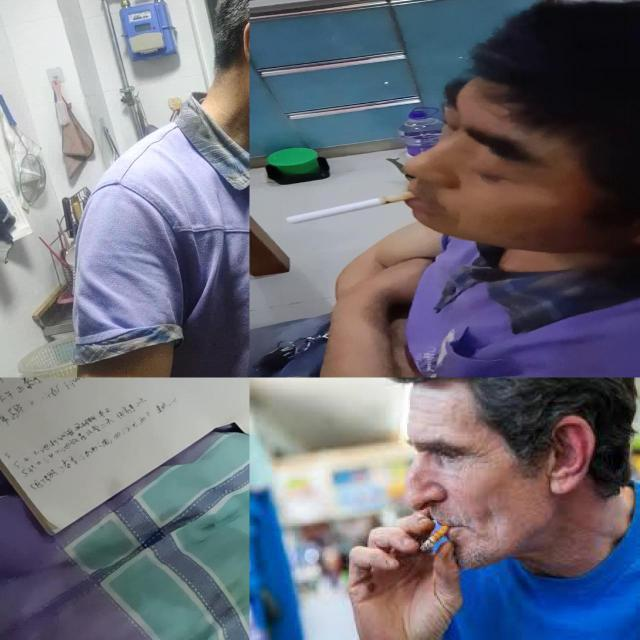cigarette: (286, 192, 416, 225), (421, 525, 448, 552)
